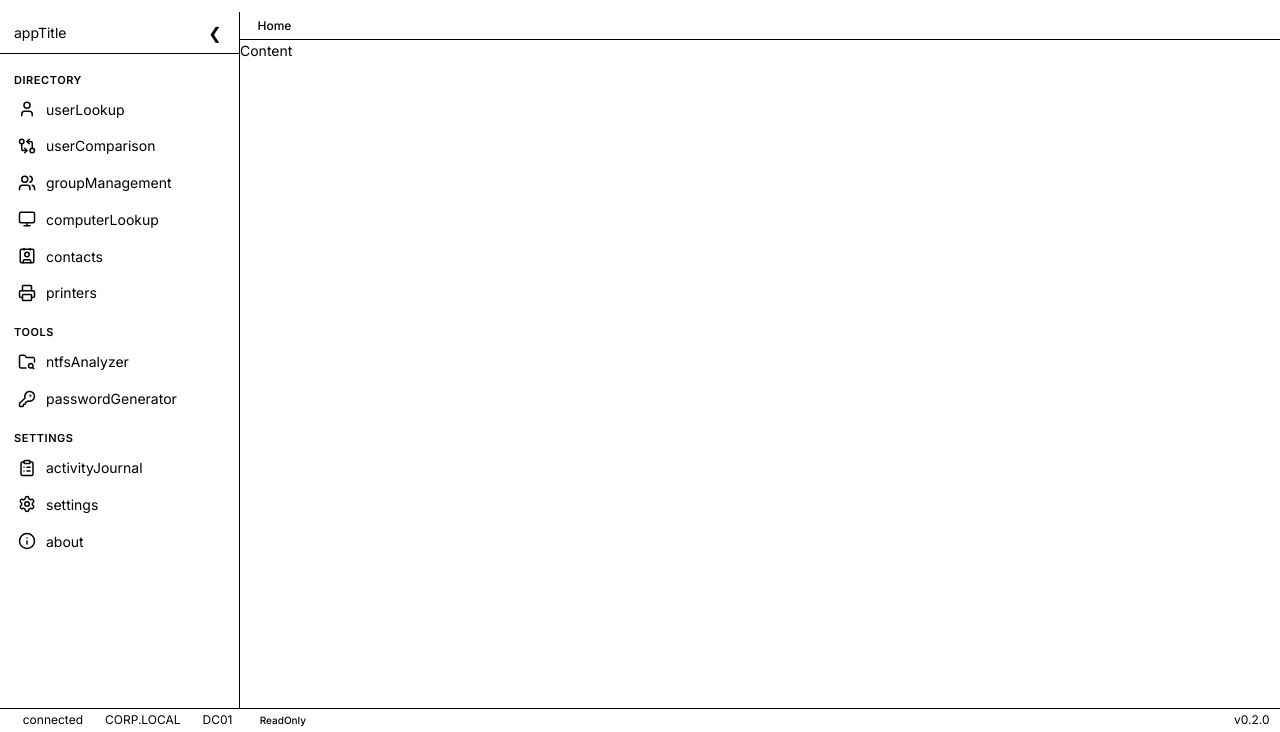
Scenario: AppShell › should close active tab on Ctrl+W
The width and height of the screenshot is (1280, 732).
Note: Open a tab via sidebar
Click the button with test id "sidebar-item-users".
click(118, 109)  # box x1=7 y1=92 x2=230 y2=126
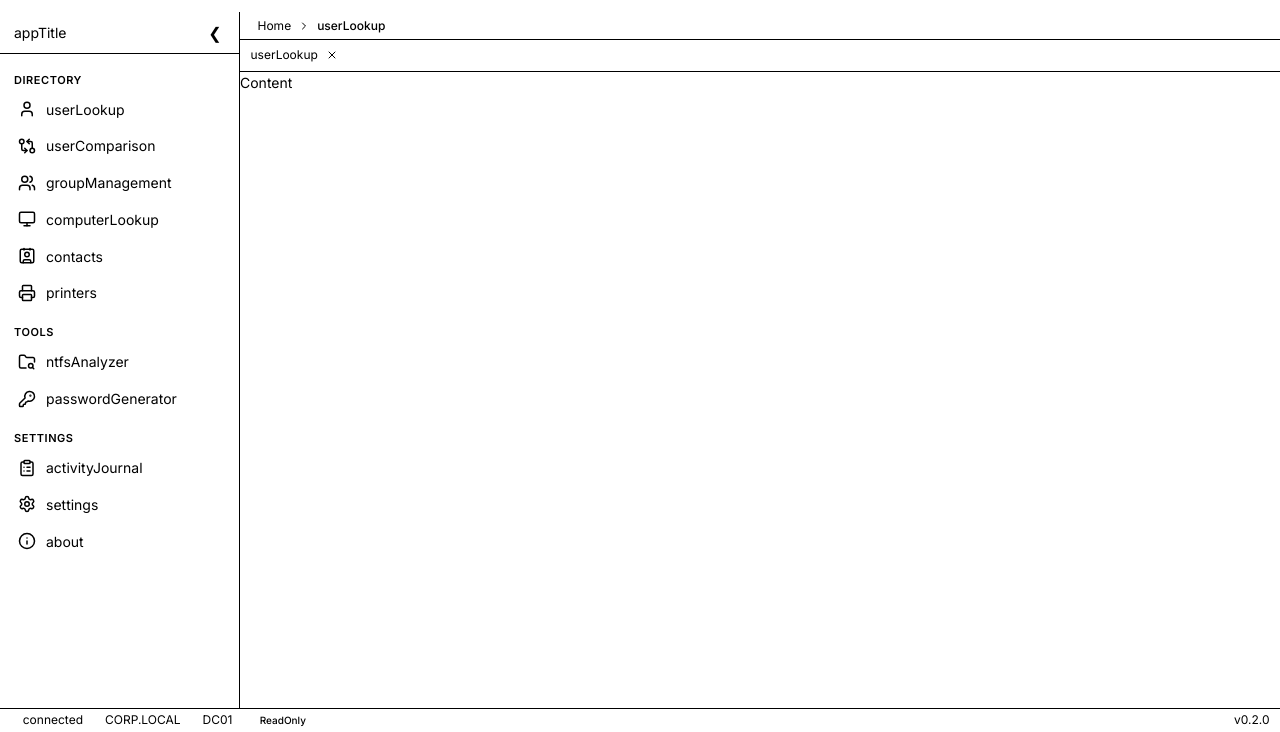
Check: the tab with test id "tab-users" is shown, box x1=250 y1=47 x2=339 y2=62
Note: Close it with Ctrl+W
Press w
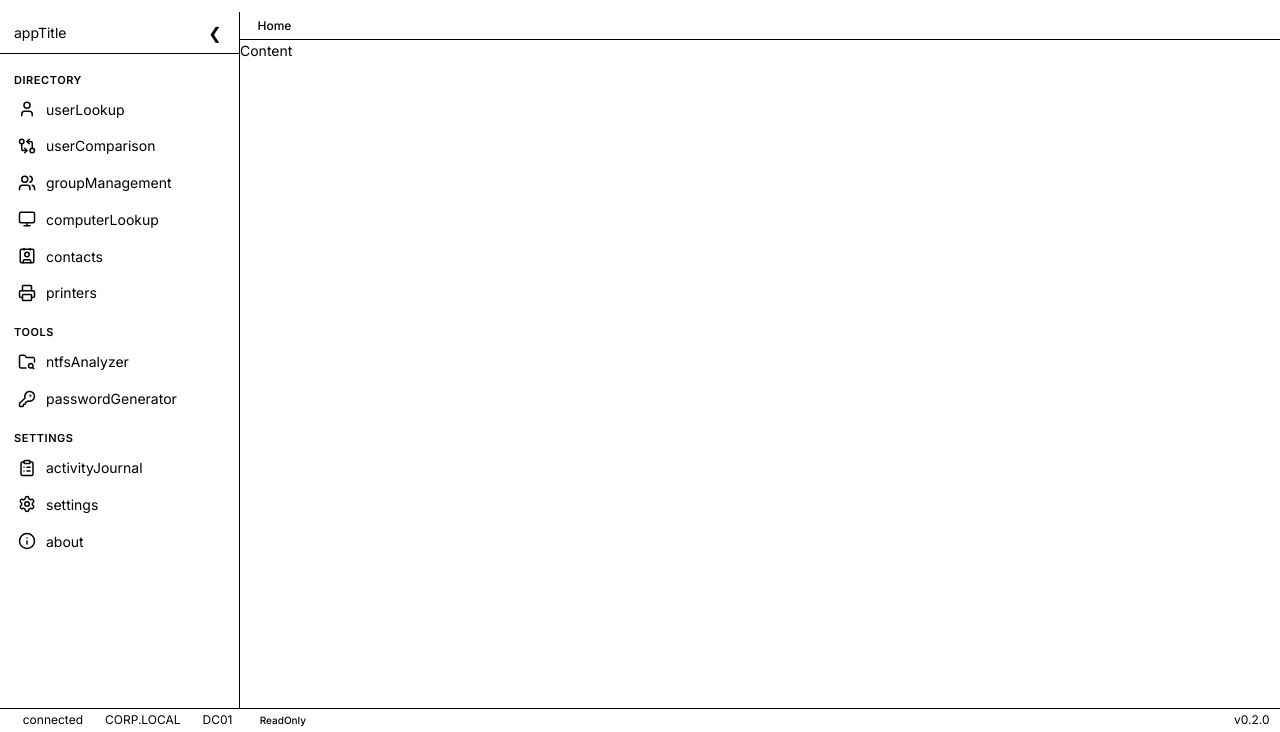
Check: the tab with test id "tab-users" is gone
